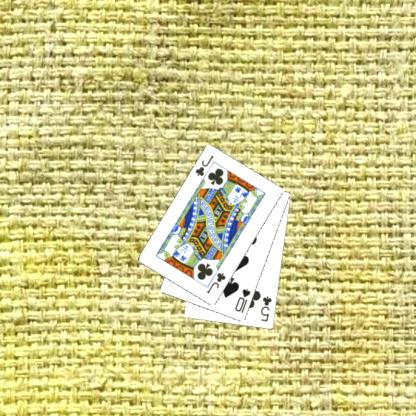10S: (232, 286, 252, 315)
5C: (258, 294, 273, 323)
JC: (192, 152, 216, 178), (204, 270, 227, 295)
